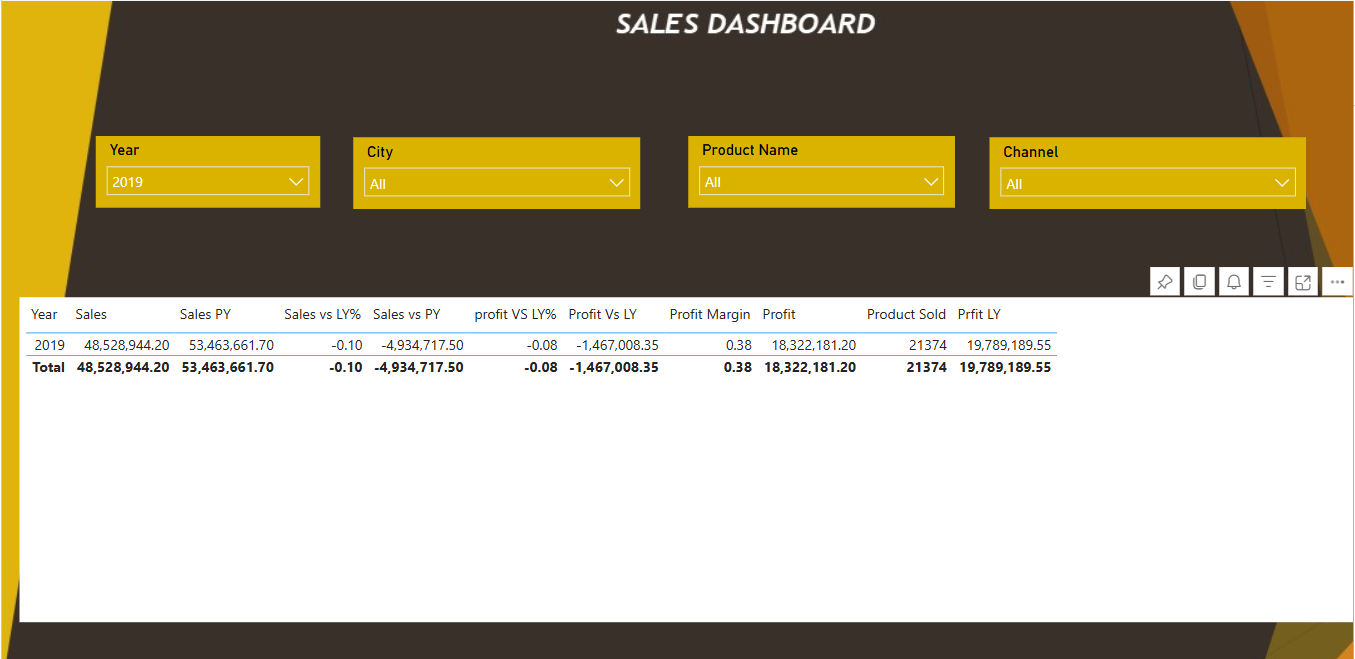

This screenshot's page, from the dashboard's own definition file:
{"tool":"powerbi","page":{"name":"Sales","canvas":[1280,720],"ordinal":0},"visuals":[{"type":"slicer","fields":{"Values":["DateTable.Year"]},"box":[88.9,127.8,212.5,68.1],"z":0},{"type":"slicer","fields":{"Values":["Regions_Table.City"]},"box":[333.3,129.2,272.2,68.1],"z":1000},{"type":"slicer","fields":{"Values":["Products_Data.Product Name"]},"box":[650,127.8,252.8,68.1],"z":2000},{"type":"slicer","fields":{"Values":["Sales_Data.Channel"]},"box":[936.1,129.2,300,68.1],"z":3000},{"type":"tableEx","fields":{"Values":["DateTable.Year","measure Table.Sales","measure Table.Sales PY","measure Table.Sales vs LY%","measure Table.Sales vs PY","measure Table.profit VS LY%","measure Table.Profit Vs LY","measure Table.Profit Margin","measure Table.Profit","measure Table.Product Sold","measure Table.Prfit LY"]},"box":[16.7,280.6,1263.9,308.3],"z":4000}]}

Visuals, with their boxes on the page's 1280x720 design canvas (x1, y1, x2, y2). These are canvas units, not pixel positions in the 1355x659 screenshot, which may show the page scaled, cropped or inside an application window:
slicer - DateTable.Year: 89/128/301/196
slicer - Regions_Table.City: 333/129/606/197
slicer - Products_Data.Product Name: 650/128/903/196
slicer - Sales_Data.Channel: 936/129/1236/197
tableEx - DateTable.Year x measure Table.Sales: 17/281/1281/589
